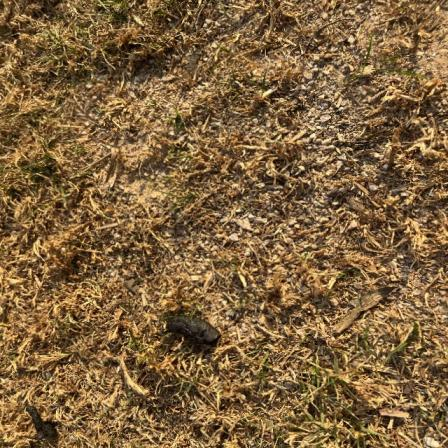dog-poop: (161, 307, 232, 353), (14, 401, 65, 440)
